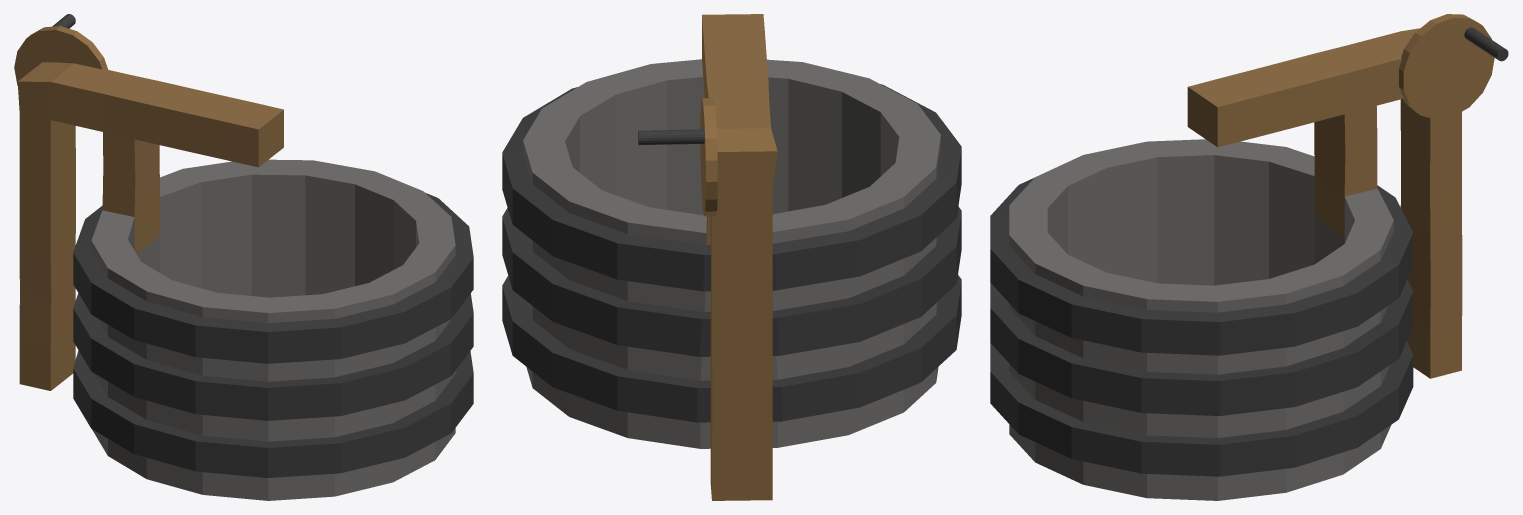
File: Well_T3.fbx
The picture shows the model from 3 angles, left to right: view 1: azimuth 30°, elevation 25°; view 2: azimuth 150°, elevation 25°; view 3: azimuth 270°, elevation 25°; orthographic projection. The views are drawn at different scales.
Visible parts, largest first — view 1: Well_T3; view 2: Well_T3; view 3: Well_T3.
Part boxes in pixels (<box>): Well_T3: <box>14,14,473,500</box>; Well_T3: <box>502,14,961,500</box>; Well_T3: <box>990,14,1508,500</box>.
Bounding box in the file's own units: 110 × 102 × 134.
